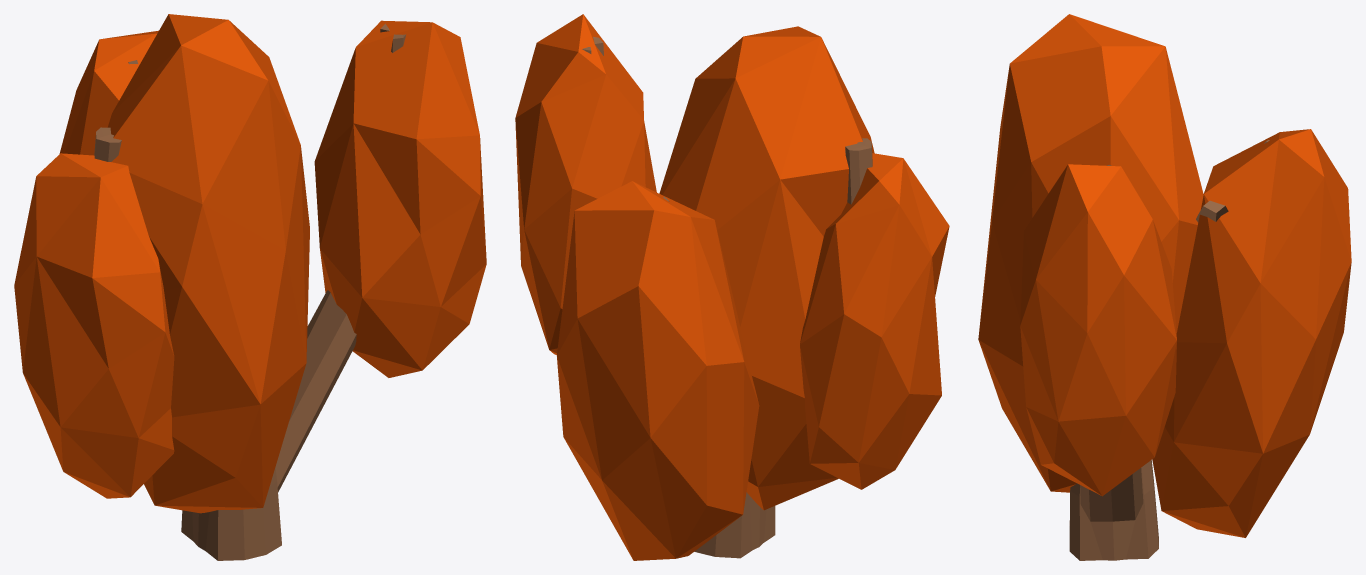
The model's file is tree-autumn-complete-13-005.glb.
3 renders of one model, left to right at view 1: azimuth 30°, elevation 25°; view 2: azimuth 150°, elevation 25°; view 3: azimuth 270°, elevation 25°, orthographic. The views are drawn at different scales.
Parts seen in each view (by area): view 1: TREE 13.003_388, TREE 13.002_389; view 2: TREE 13.003_388, TREE 13.002_389; view 3: TREE 13.003_388, TREE 13.002_389.
Part boxes in pixels (left/top/right/bottom): TREE 13.003_388: left=14, top=14, right=486, bottom=513; TREE 13.002_389: left=94, top=23, right=406, bottom=560; TREE 13.003_388: left=515, top=14, right=949, bottom=560; TREE 13.002_389: left=582, top=37, right=872, bottom=558; TREE 13.003_388: left=978, top=14, right=1351, bottom=537; TREE 13.002_389: left=1069, top=140, right=1269, bottom=560.
Size of the model in its own units: 0.9813 by 1.14 by 0.7767.
